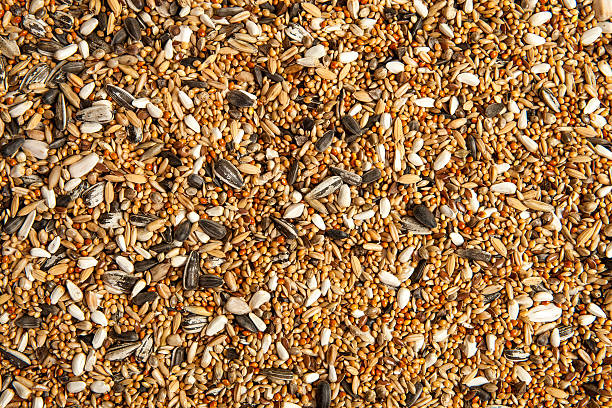seed: (1, 1, 611, 408)
